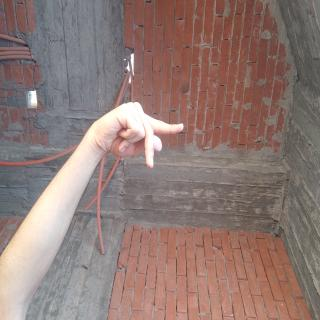DHAA: (71, 178, 130, 310)
